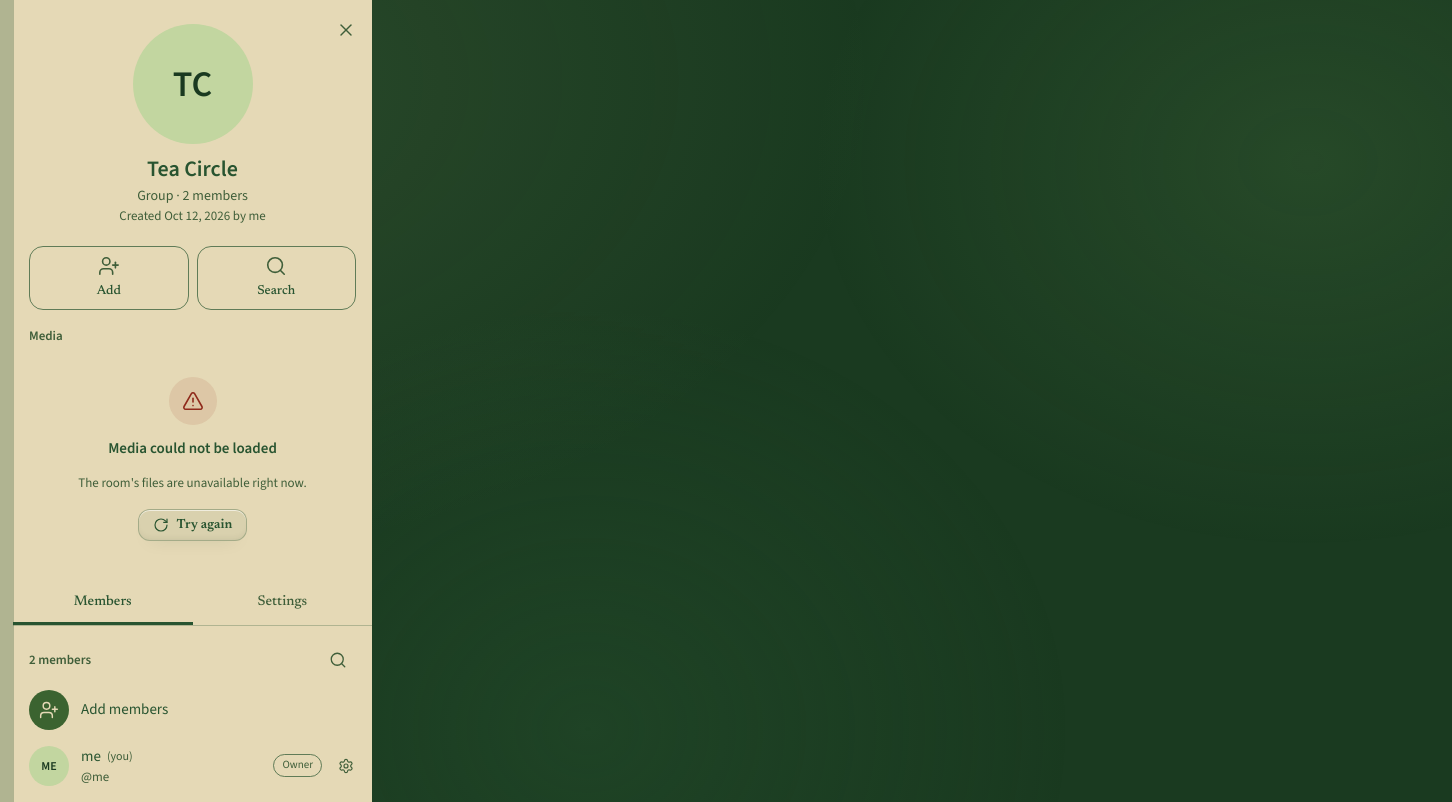
GroupInfoPanel › will not let the owner change their own role, and hides the danger items
Click the button named "Member options for me".
click(346, 766)  # box [328,748,364,784]
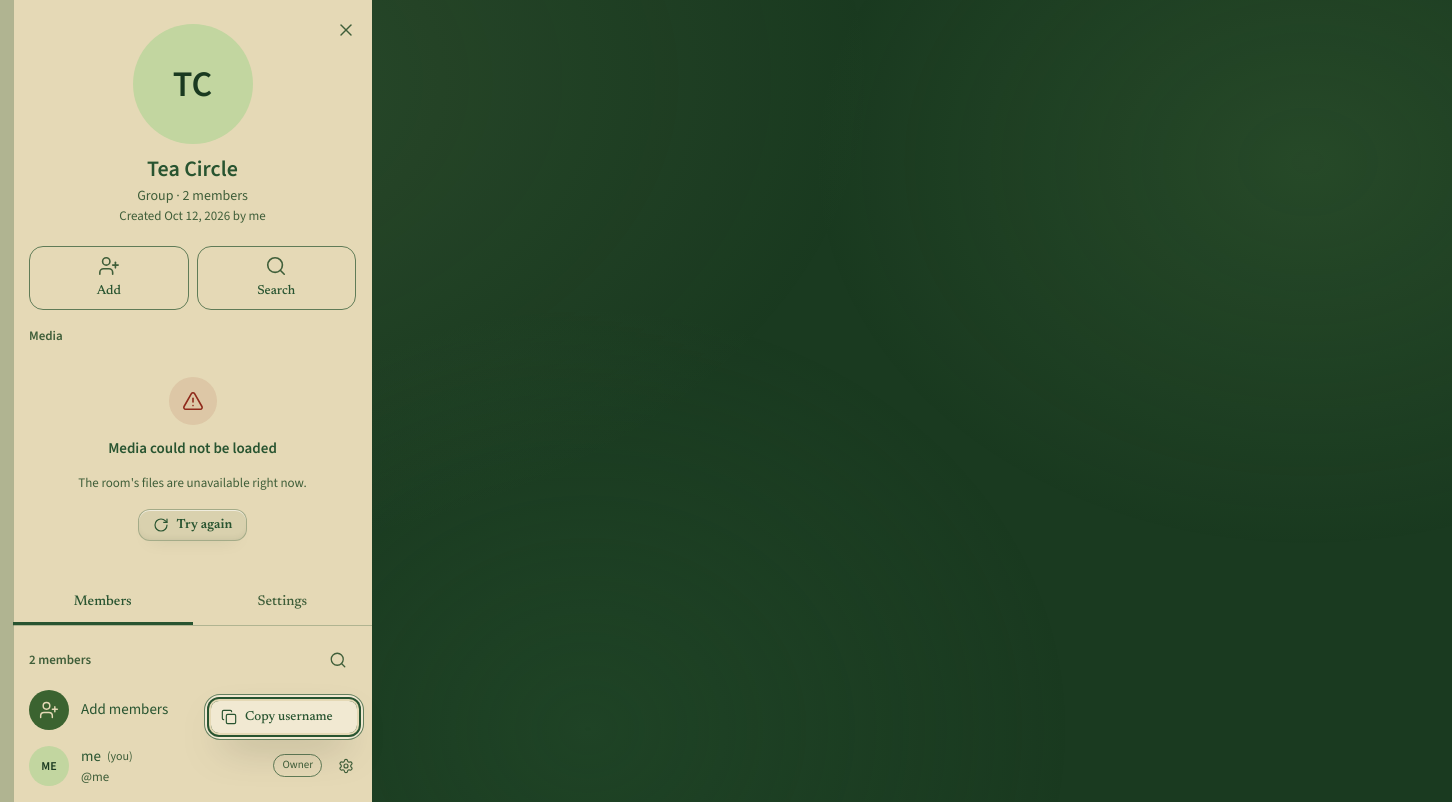
Expected: the menu items read "Copy username", in this order, [211,701,357,733]
